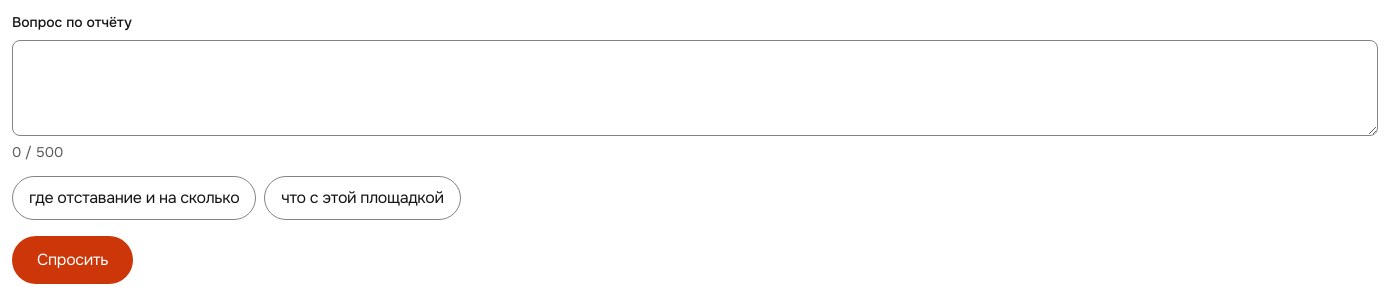
Test: AssistantQuestionForm › shows counter with trimmed length
Type "  abc " into the text box labelled "Вопрос по отчёту" at (695, 88), box 12,40 -> 1378,136
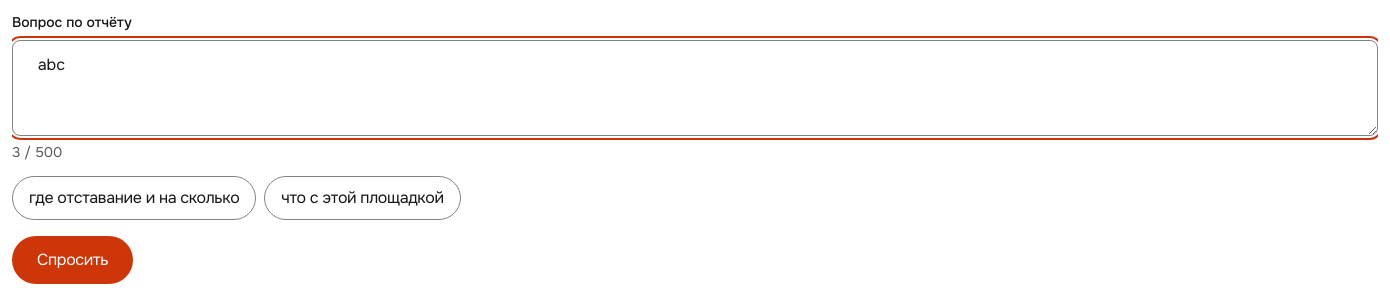
expect the text "3 / 500" is shown: met, box 12,144 -> 62,160
